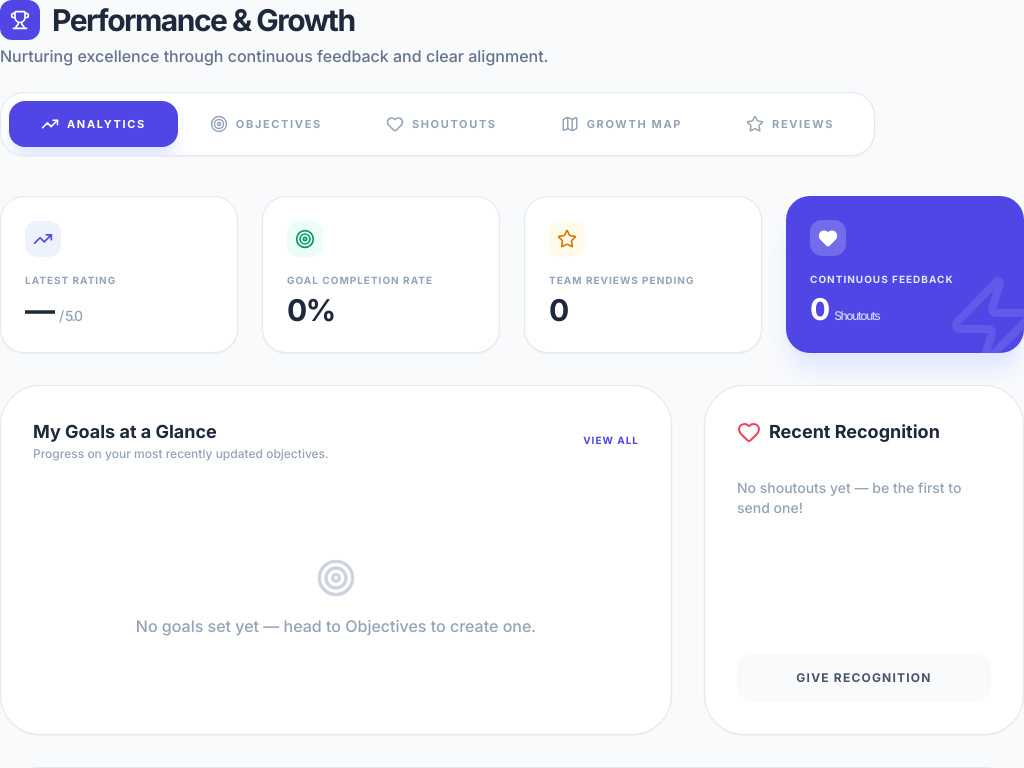
Performance (employee) › Objectives (goals) › shows the empty state when there are no goals yet
Click the button "Objectives": (266, 124) [178,101,354,147]
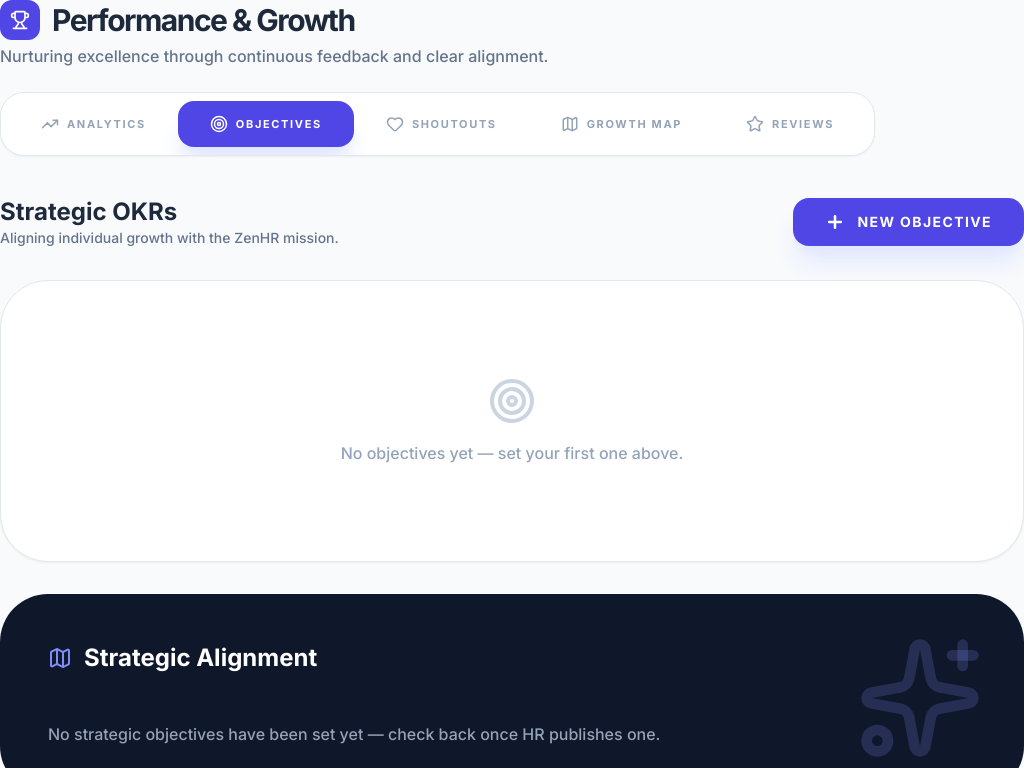
Check: the text "No objectives yet — set your first one above." is shown, box [341,443,683,463]
